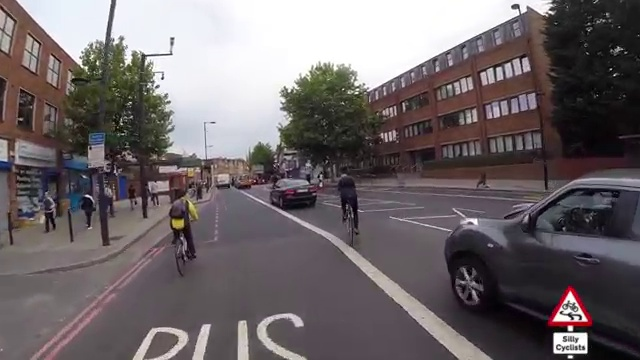cyclist_back: (169, 186, 201, 276), (334, 167, 364, 247)
